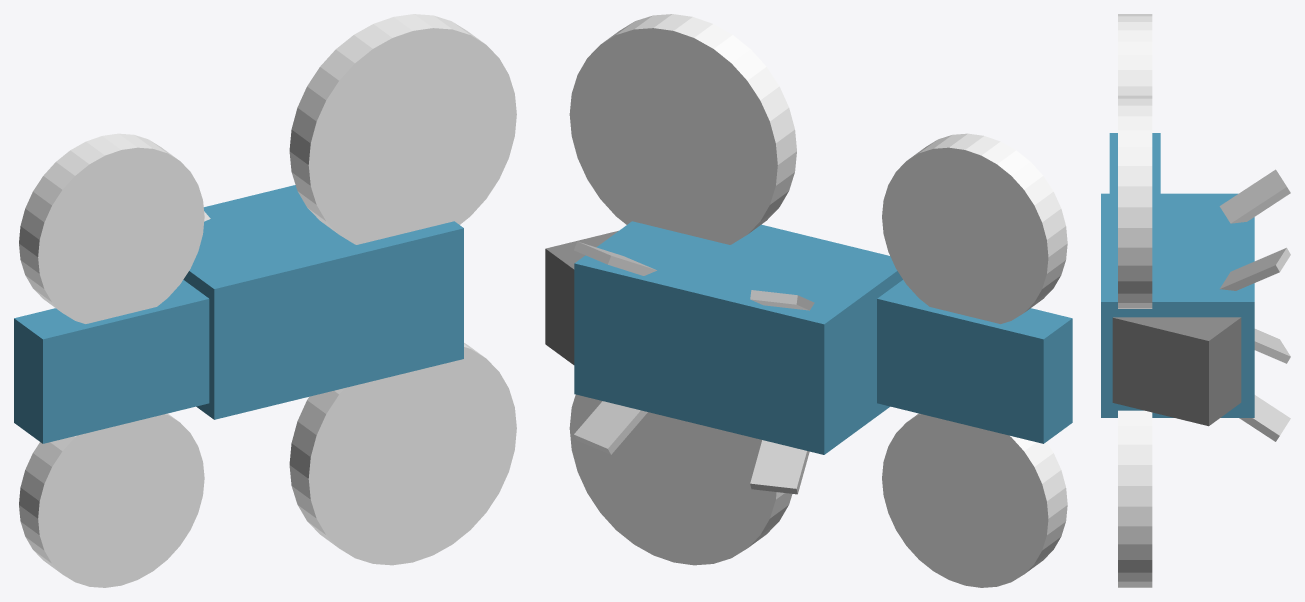
The model's file is aguila.glb.
3 renders of one model, left to right at view 1: azimuth 30°, elevation 25°; view 2: azimuth 150°, elevation 25°; view 3: azimuth 270°, elevation 25°, orthographic. The views are drawn at different scales.
Parts seen in each view (by area): view 1: cabina, rotor_NW, rotor_NE, rotor_SE, rotor_SW, cola; view 2: cabina, rotor_NW, rotor_SE, rotor_SW, cola, rotor_NE, cockpit, brazo_SE, brazo_NE, brazo_NW, brazo_SW; view 3: cabina, cockpit, rotor_NW, rotor_NE, rotor_SE, brazo_SW, brazo_NW, cola, brazo_NE, brazo_SE.
Boxes of the visible parts, x1,y1,x2,y2 form: cabina: [183, 185, 463, 419]; rotor_NW: [289, 14, 516, 244]; rotor_NE: [289, 343, 516, 565]; rotor_SE: [19, 133, 204, 323]; rotor_SW: [19, 413, 204, 587]; cola: [14, 280, 209, 443]; cabina: [574, 221, 902, 454]; rotor_NW: [569, 14, 796, 244]; rotor_SE: [882, 133, 1067, 324]; rotor_SW: [882, 413, 1067, 587]; cola: [877, 280, 1072, 443]; rotor_NE: [569, 394, 792, 565]; cockpit: [545, 230, 618, 364]; brazo_SE: [750, 440, 809, 494]; brazo_NE: [574, 401, 647, 454]; brazo_NW: [574, 241, 656, 275]; brazo_SW: [750, 290, 814, 310]; cabina: [1101, 193, 1254, 417]; cockpit: [1112, 317, 1241, 426]; rotor_NW: [1118, 95, 1152, 308]; rotor_NE: [1118, 410, 1152, 587]; rotor_SE: [1118, 14, 1152, 95]; brazo_SW: [1219, 169, 1290, 223]; brazo_NW: [1220, 247, 1290, 290]; cola: [1109, 133, 1160, 193]; brazo_NE: [1239, 395, 1290, 441]; brazo_SE: [1254, 329, 1290, 363].
Bounding box in the file's own units: 5.75 × 6.1 × 2.22.
